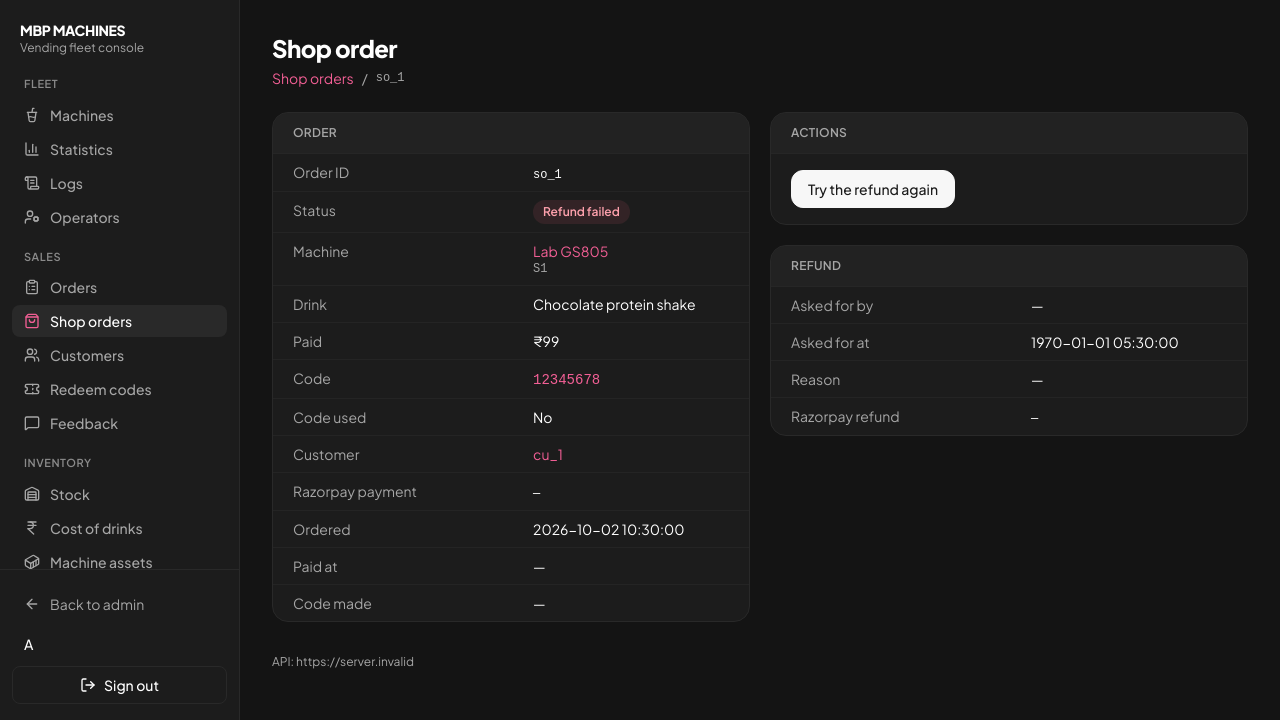
Test: Shop order detail › retries a failed refund, and shows a refusal as the server words it
Click the button with test id "button-shop-retry-refund". click: (873, 189)
box: [791,170,955,208]
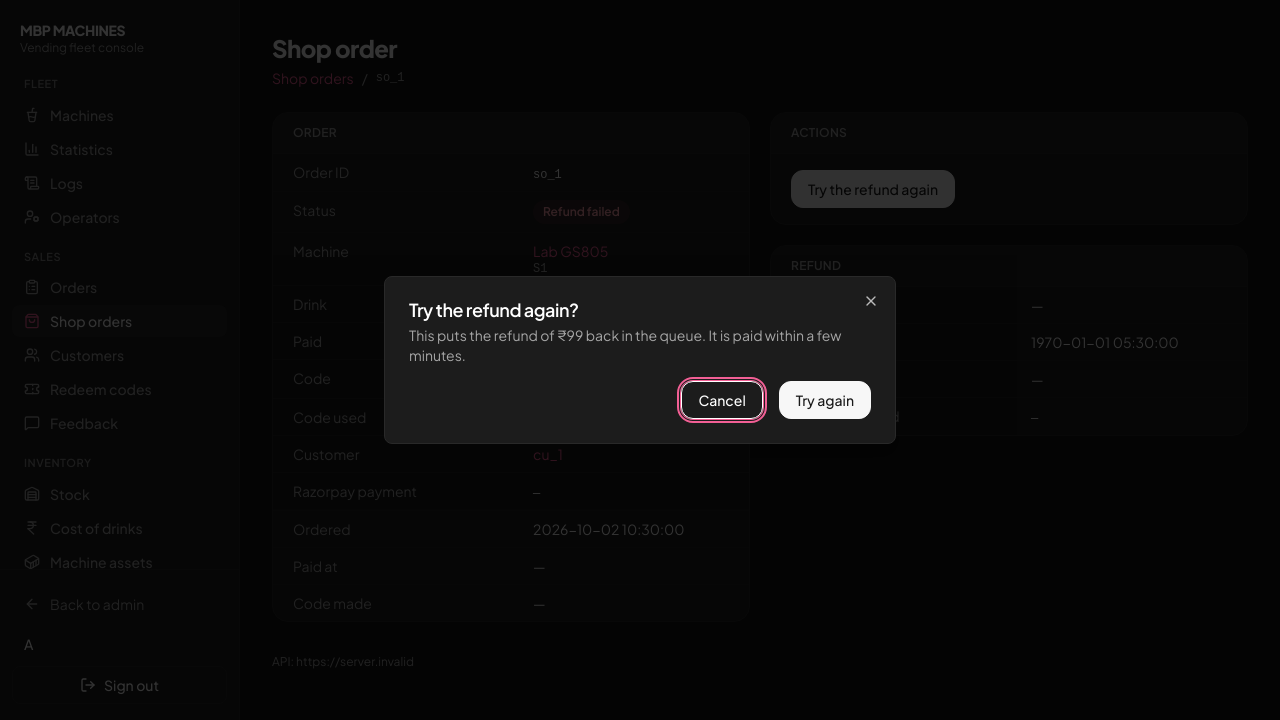
Click the button with test id "dialog-retry-refund-confirm". click: (825, 400)
box: [779,381,871,419]
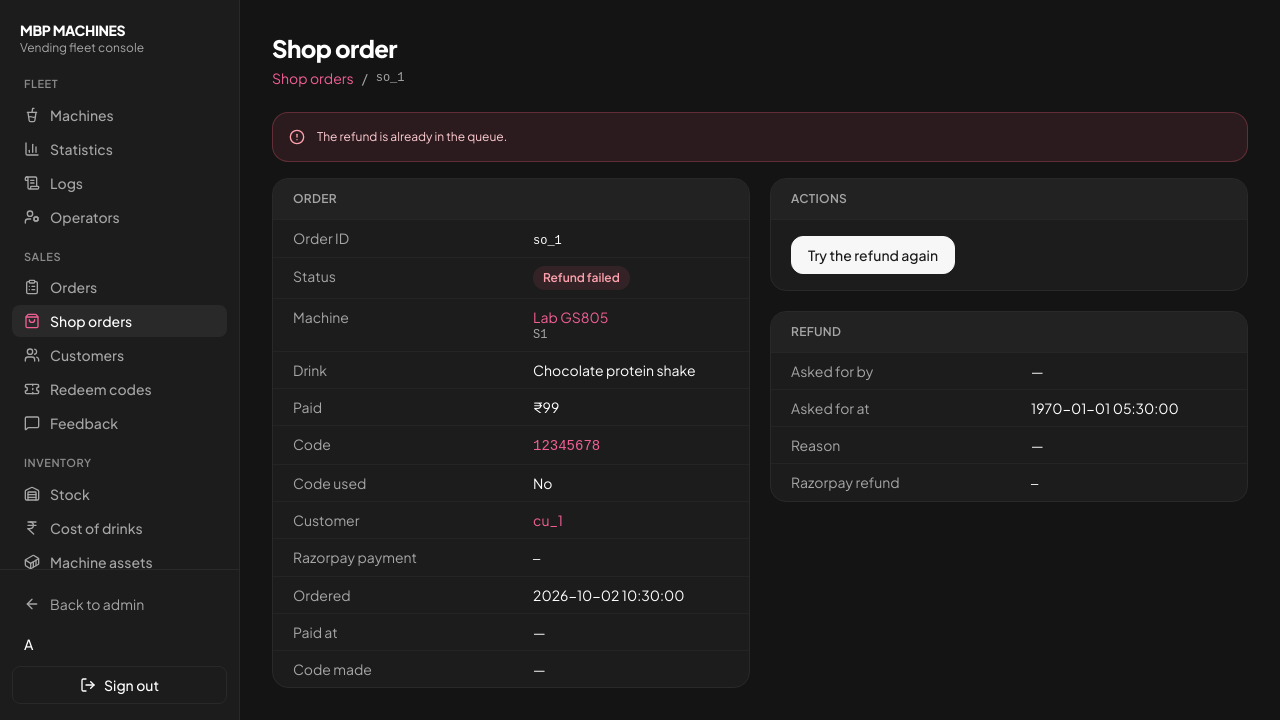
Check: the text "The refund is already in the queue." is shown, box [317,127,507,146]
